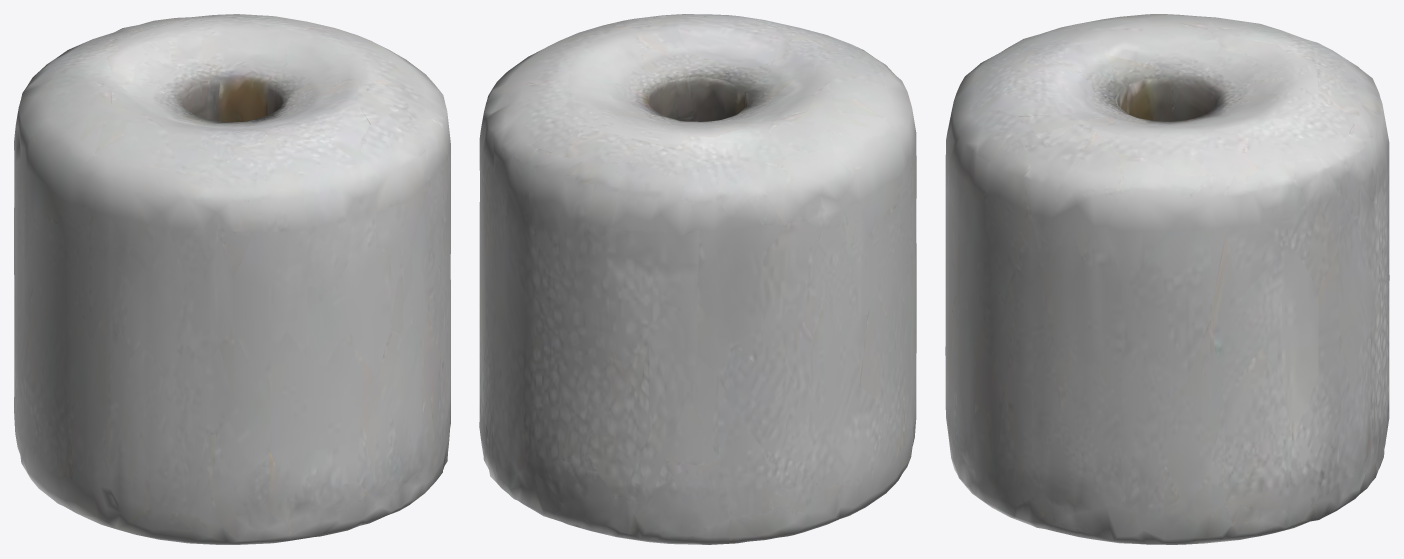
File: react-bubble_wrap-Bl_CCcOR.glb
3 renders of one model, left to right at view 1: azimuth 30°, elevation 25°; view 2: azimuth 150°, elevation 25°; view 3: azimuth 270°, elevation 25°, orthographic.
Parts seen in each view (by area): view 1: Meshy_Mesh_0.002; view 2: Meshy_Mesh_0.002; view 3: Meshy_Mesh_0.002.
Part boxes in pixels (x1,y1,x2,y2): Meshy_Mesh_0.002: (14, 14, 450, 544); Meshy_Mesh_0.002: (479, 14, 916, 544); Meshy_Mesh_0.002: (945, 14, 1389, 544).
Bounding box in the file's own units: 0.3225 × 0.3225 × 0.3292.
1 material, 1 textured.
